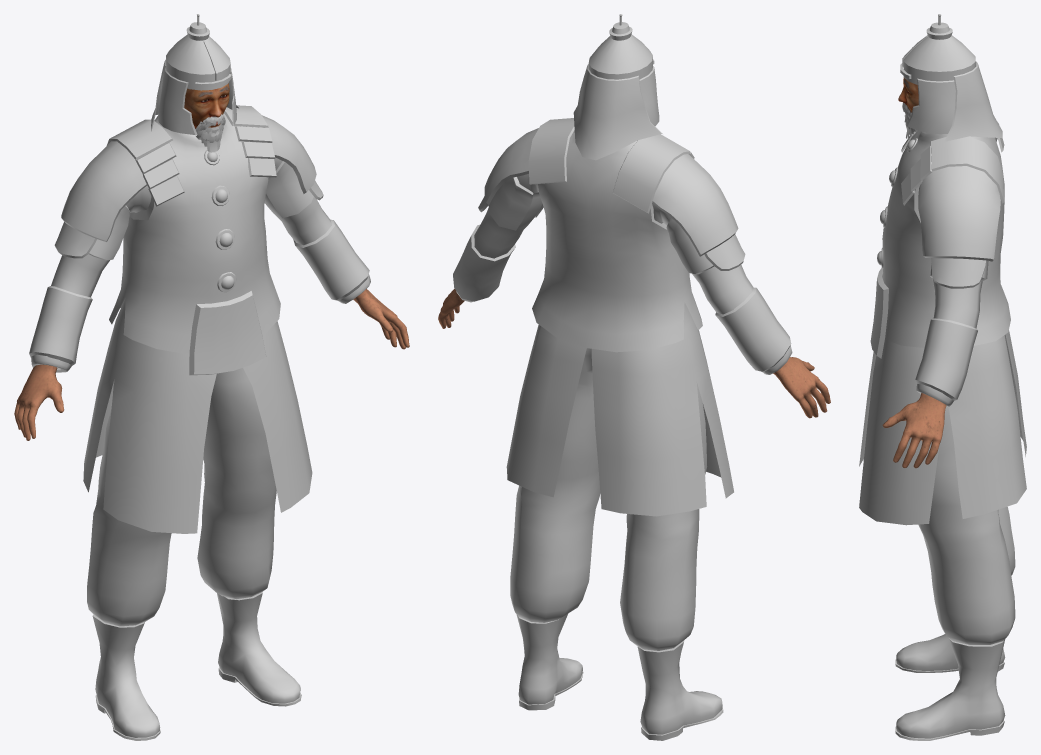
File: boss_02_test.fbx
3 views of the same model, side by side, from view 1: azimuth 30°, elevation 25°; view 2: azimuth 150°, elevation 25°; view 3: azimuth 270°, elevation 25° (orthographic).
Parts seen in each view (by area): view 1: boss_02, boss_02_hat, boss_02_head, boss_02_beard; view 2: boss_02, boss_02_hat, boss_02_head; view 3: boss_02, boss_02_hat, boss_02_head.
Boxes of the visible parts, x1,y1,x2,y2 form: boss_02: [29, 105, 370, 740]; boss_02_hat: [151, 14, 238, 135]; boss_02_head: [14, 83, 409, 440]; boss_02_beard: [195, 114, 225, 152]; boss_02: [453, 118, 792, 740]; boss_02_hat: [573, 14, 662, 160]; boss_02_head: [438, 288, 830, 418]; boss_02: [859, 123, 1026, 740]; boss_02_hat: [900, 14, 1002, 142]; boss_02_head: [882, 77, 946, 468].
Bounding box in the file's own units: 208 × 362 × 80.46.
